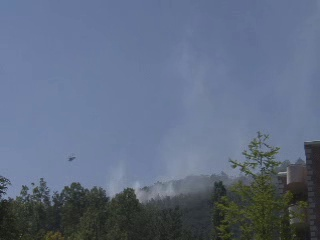smoke: (134, 141, 220, 203), (106, 161, 127, 199)
